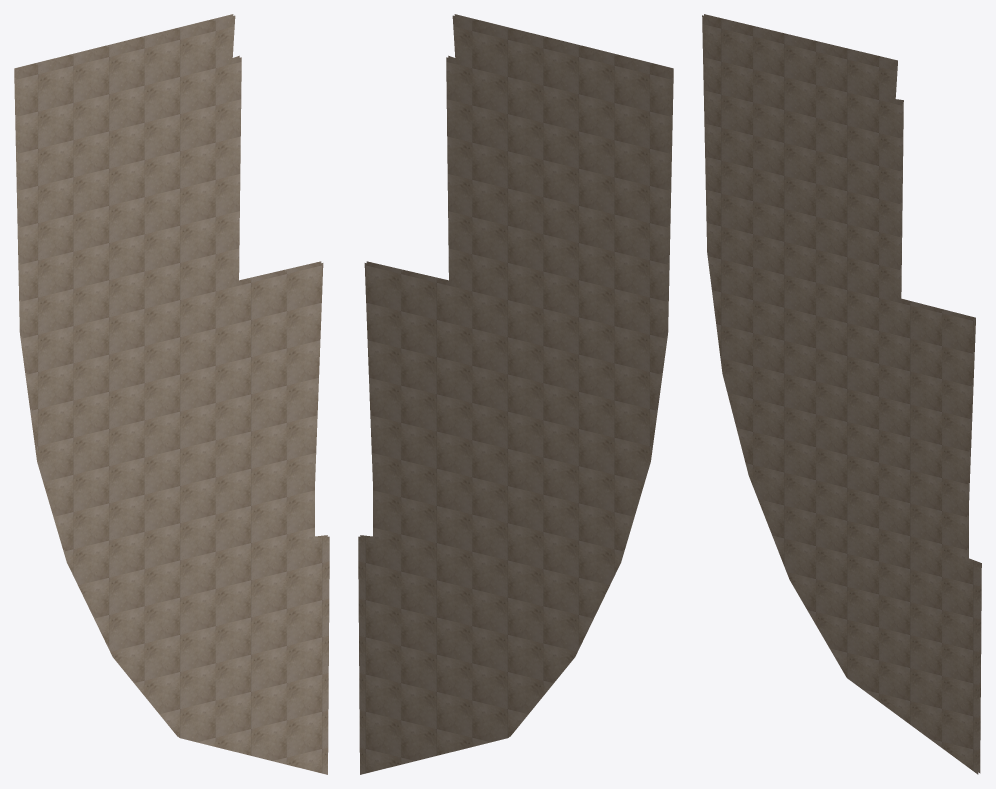
Rendered from floor_16.obj.
3 views of the same model, side by side, from view 1: azimuth 30°, elevation 25°; view 2: azimuth 150°, elevation 25°; view 3: azimuth 330°, elevation 25° (orthographic). The views are drawn at different scales.
Visible parts, largest first — view 1: floor_16; view 2: floor_16; view 3: floor_16.
Boxes of the visible parts, bbox=[...] form: floor_16: bbox=[14, 14, 329, 774]; floor_16: bbox=[358, 14, 673, 774]; floor_16: bbox=[702, 14, 981, 774].
Size of the model in its own units: 8.82 by 21.03 by 0.1.
Materials: 1 (1 with a texture image).
